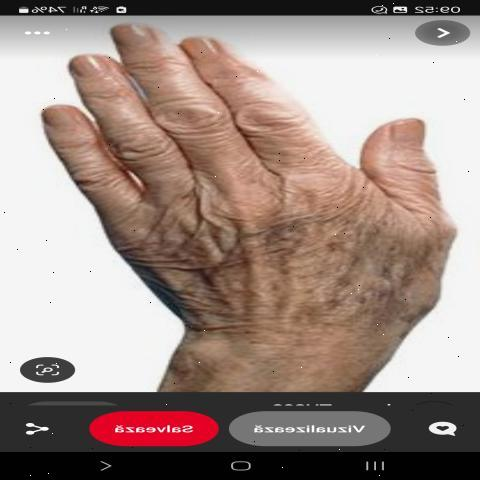Hands: (50, 17, 452, 382)
